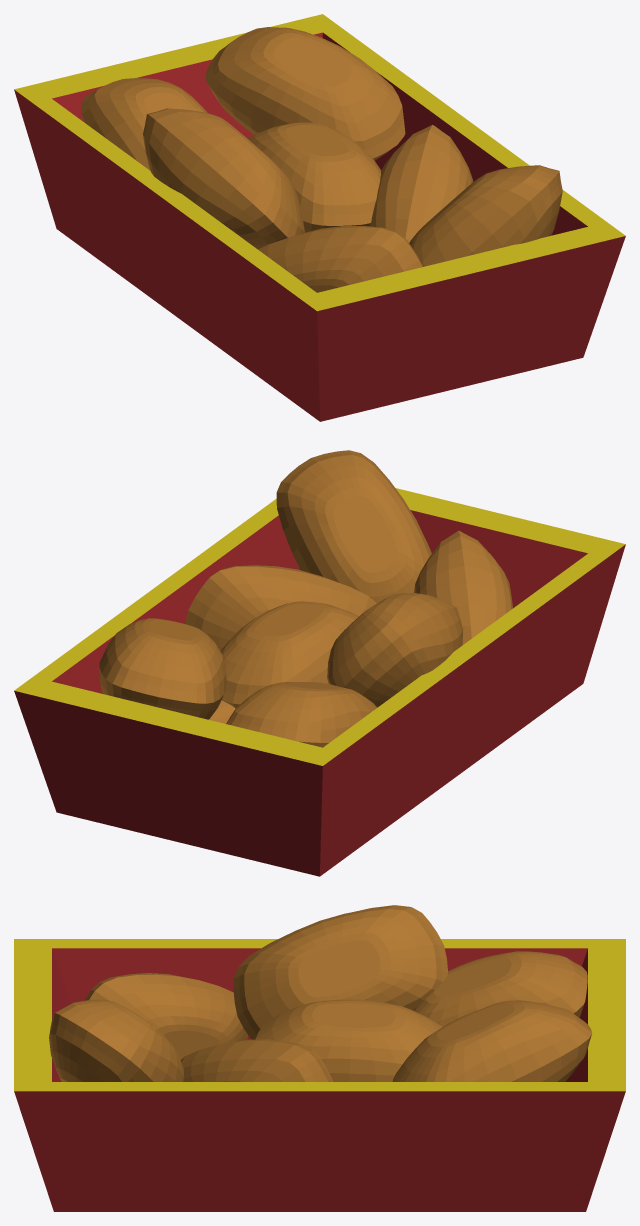
The model's file is chickenNuggets.fbx.
The picture shows the model from 3 angles, top to bottom: view 1: azimuth 30°, elevation 25°; view 2: azimuth 150°, elevation 25°; view 3: azimuth 270°, elevation 25°; orthographic projection.
Visible parts, largest first — view 1: Chicken Nuggets; view 2: Chicken Nuggets; view 3: Chicken Nuggets.
Part boxes in pixels (x1,y1,x2,y2): Chicken Nuggets: (14, 14, 625, 421); Chicken Nuggets: (14, 450, 625, 876); Chicken Nuggets: (14, 905, 625, 1211).
Bounding box in the file's own units: 1.35 × 0.7673 × 2.3.
